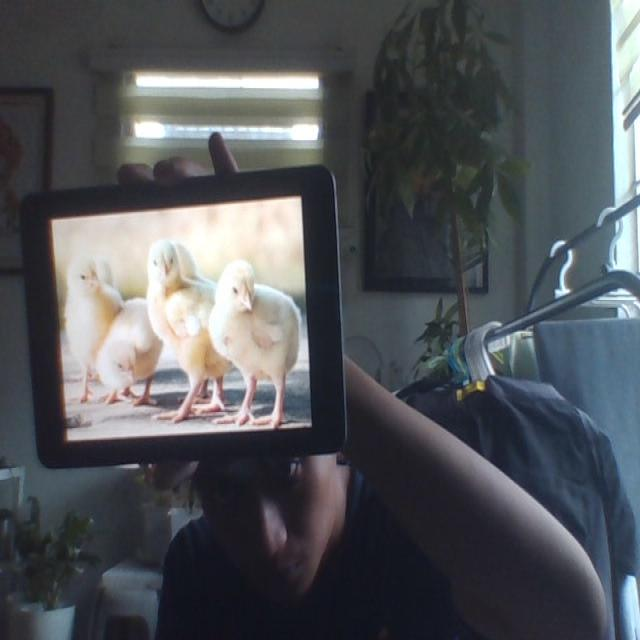Healthy: (210, 258, 298, 428), (146, 242, 228, 421), (63, 254, 118, 346)
Sick: (99, 302, 162, 408)
